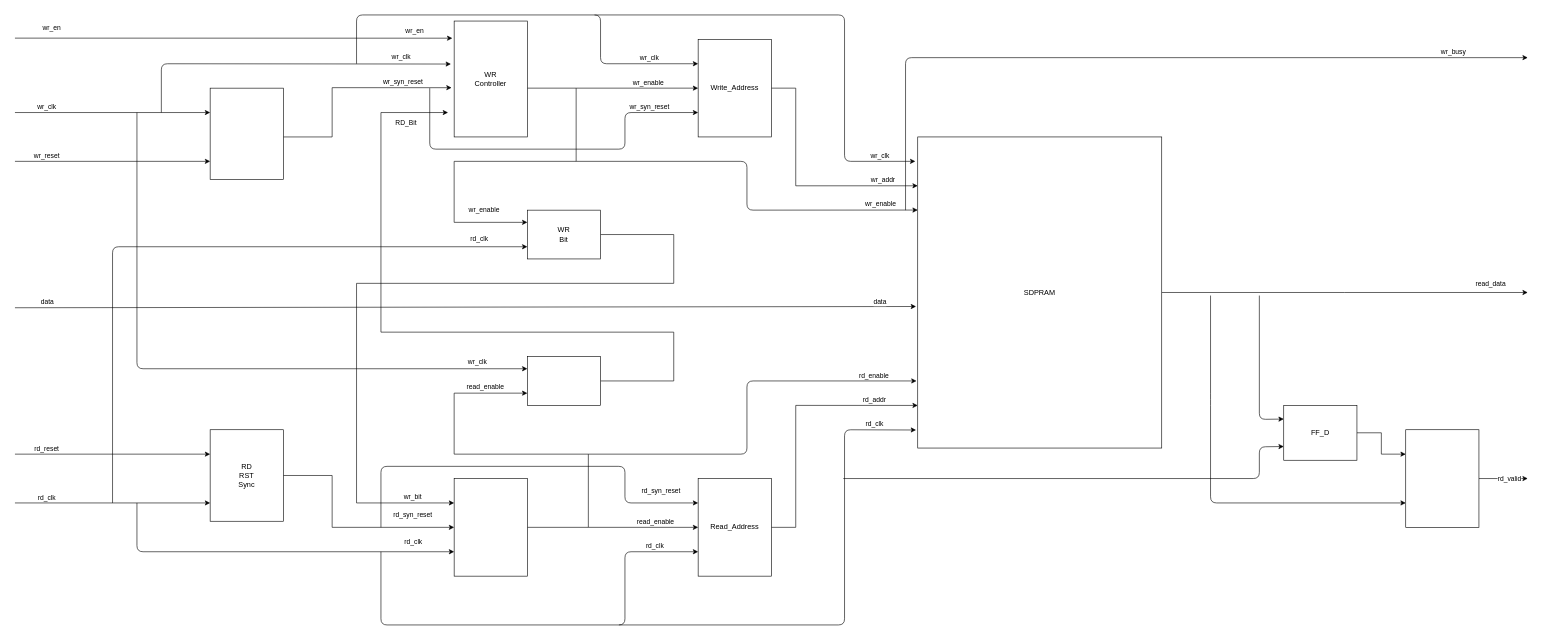
Some shapes in this 1543 by 641 pixel diagram are drawn without their labels. Here are the shapes that lost their labels. From the top down, the box of each, then its label:
(210, 88, 283, 180): WR RST Sync
(527, 356, 601, 405): RD Bit
(1405, 429, 1479, 527): Comparation
(454, 478, 527, 576): RD Controller
